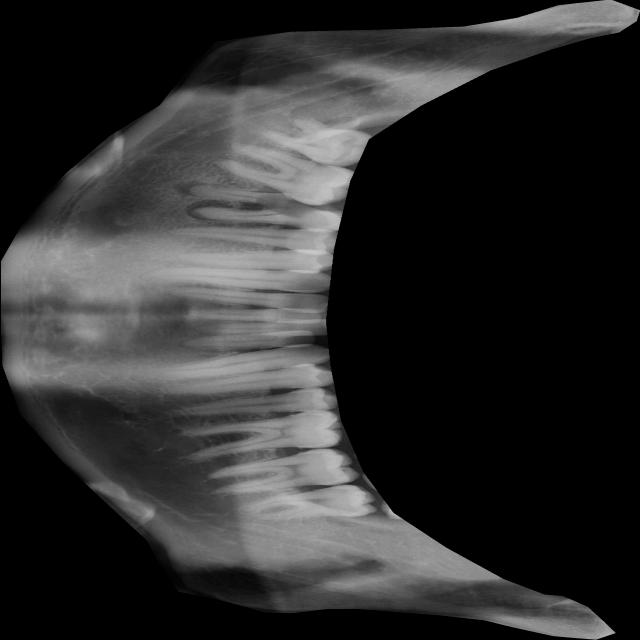mandibula: (0, 0, 639, 640)
